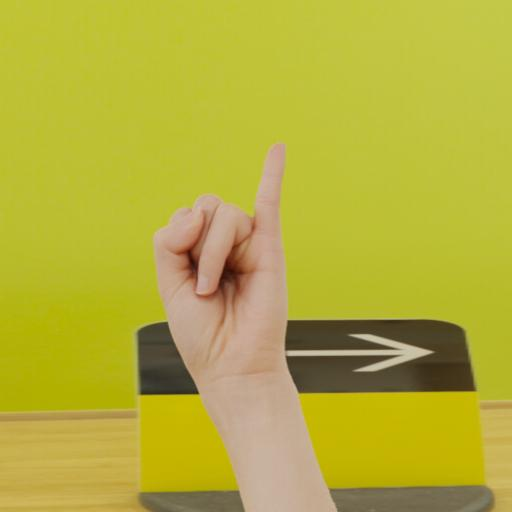I: (145, 126, 323, 452)
